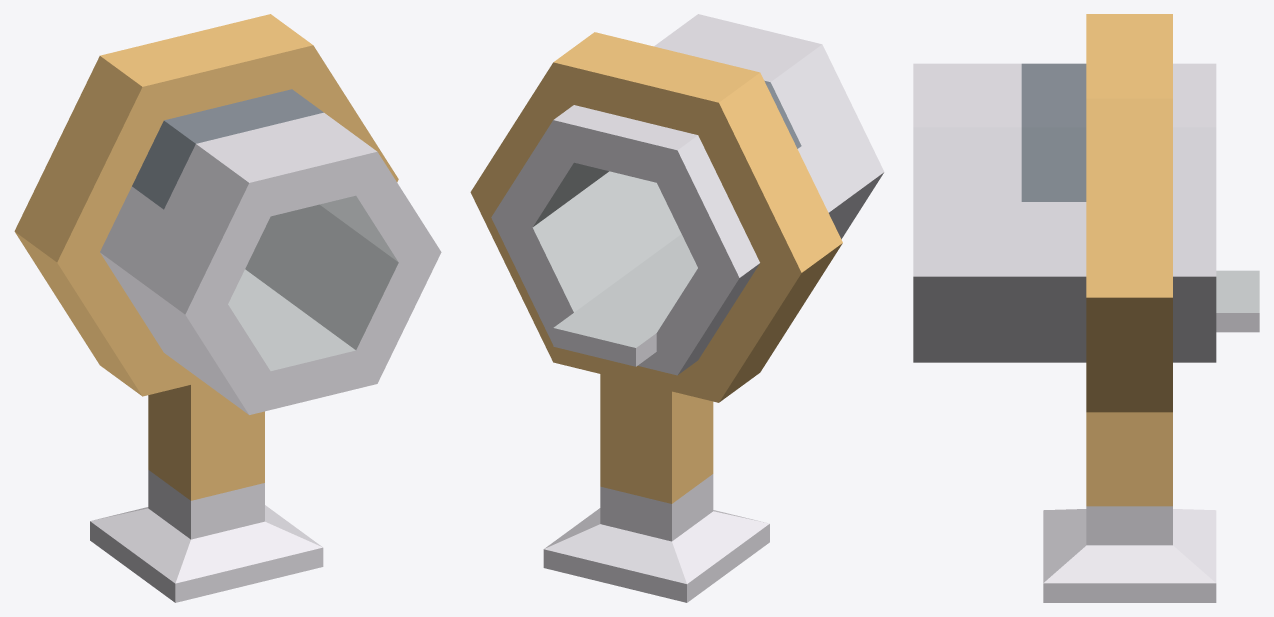
Rendered from pipe_ringHighEnd.glb.
3 renders of one model, left to right at view 1: azimuth 30°, elevation 25°; view 2: azimuth 150°, elevation 25°; view 3: azimuth 270°, elevation 25°, orthographic. The views are drawn at different scales.
Visible parts, largest first — view 1: pipe_ringHighEnd; view 2: pipe_ringHighEnd; view 3: pipe_ringHighEnd.
Part boxes in pixels (x1,y1,x2,y2): pipe_ringHighEnd: (14,14,441,602); pipe_ringHighEnd: (470,14,884,602); pipe_ringHighEnd: (913,14,1259,602).
Size of the model in its own units: 0.9237 by 1.3 by 0.8001.
Materials: 1 (1 with a texture image).
